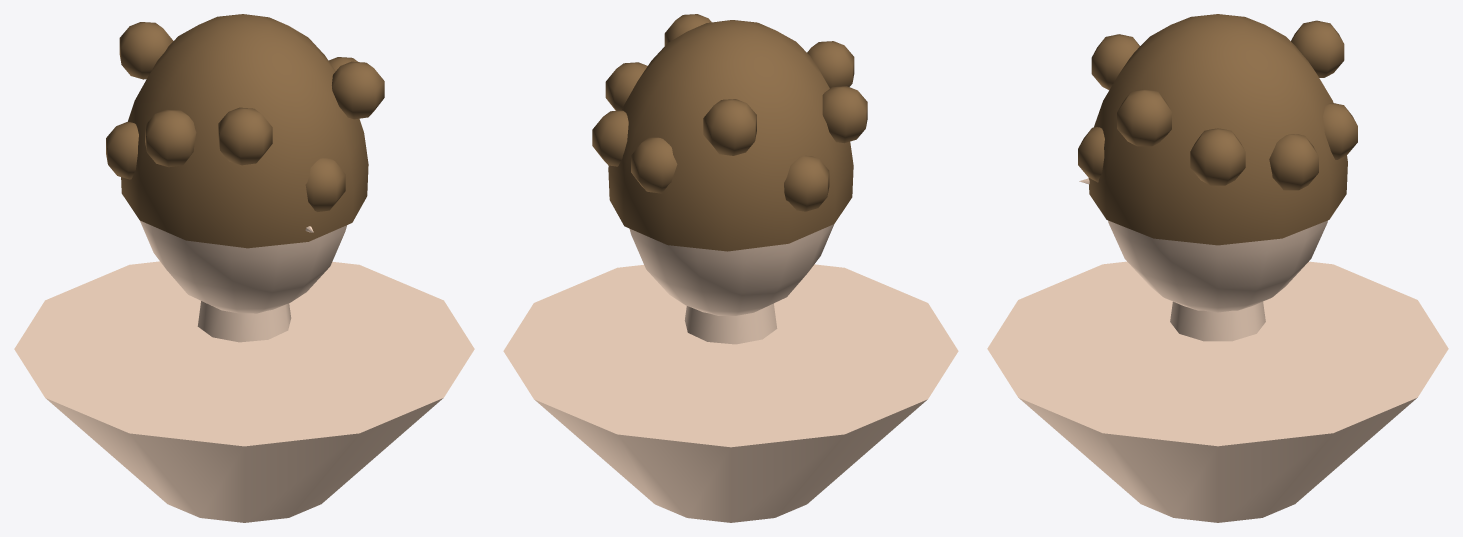
File: raw_003.glb
The picture shows the model from 3 angles, left to right: view 1: azimuth 30°, elevation 25°; view 2: azimuth 150°, elevation 25°; view 3: azimuth 270°, elevation 25°; orthographic projection.
Bounding box in the file's own units: 2.02 × 2.24 × 2.02.
